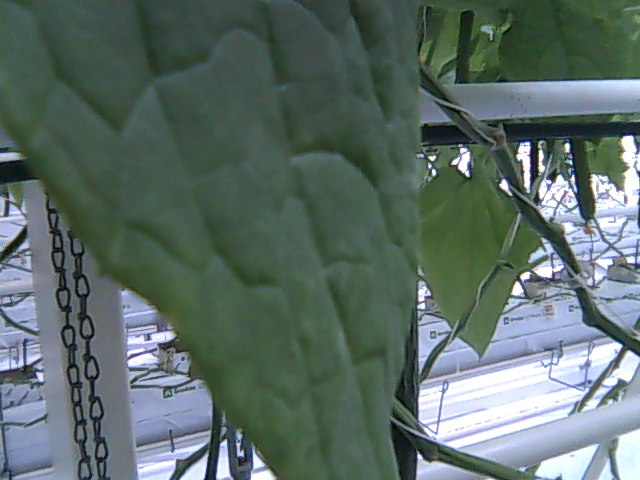concombre: (386, 265, 422, 480)
